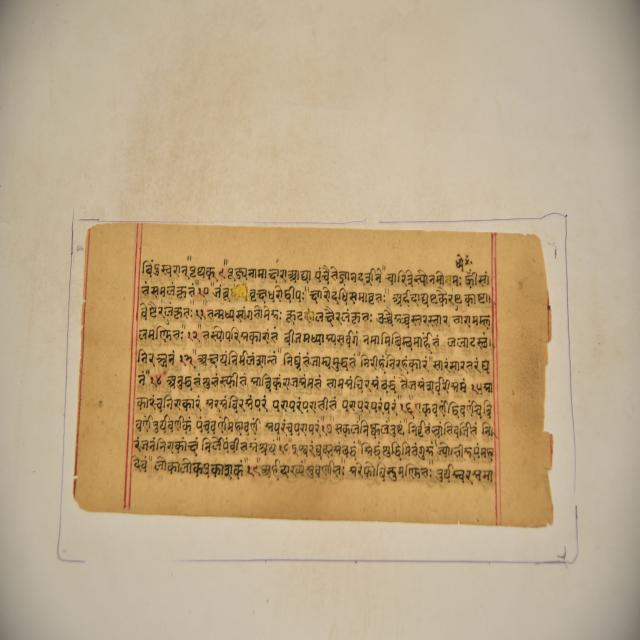text_paragraph: (78, 230, 549, 523)
